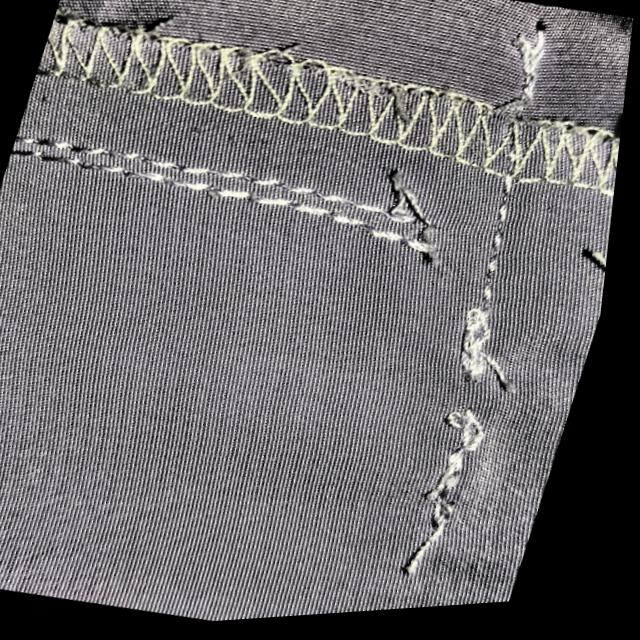Stitch: (379, 301, 578, 497), (343, 148, 540, 304)
